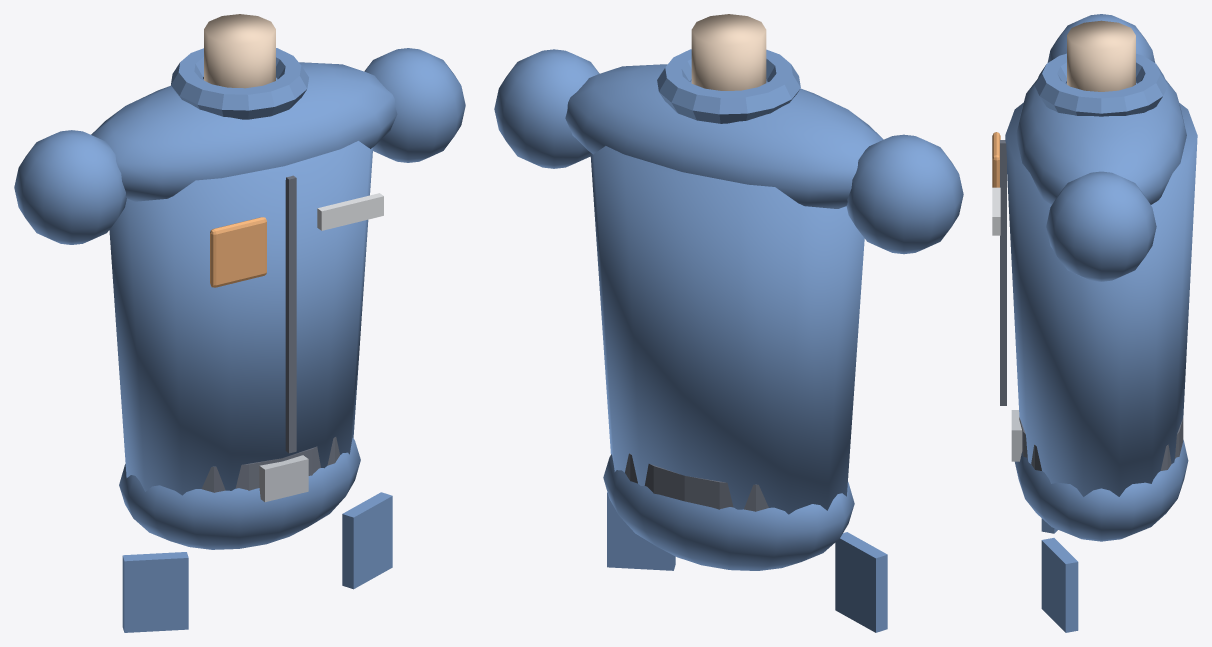
Rendered from crew__torso.fbx.
The picture shows the model from 3 angles, left to right: view 1: azimuth 30°, elevation 25°; view 2: azimuth 150°, elevation 25°; view 3: azimuth 270°, elevation 25°; orthographic projection. The views are drawn at different scales.
Visible parts, largest first — view 1: crew__torso; view 2: crew__torso; view 3: crew__torso.
Part boxes in pixels (left/top/right/bottom): crew__torso: left=14, top=14, right=465, bottom=632; crew__torso: left=494, top=14, right=963, bottom=632; crew__torso: left=992, top=14, right=1197, bottom=632.
Bounding box in the file's own units: 0.7 × 0.855 × 0.2974.
